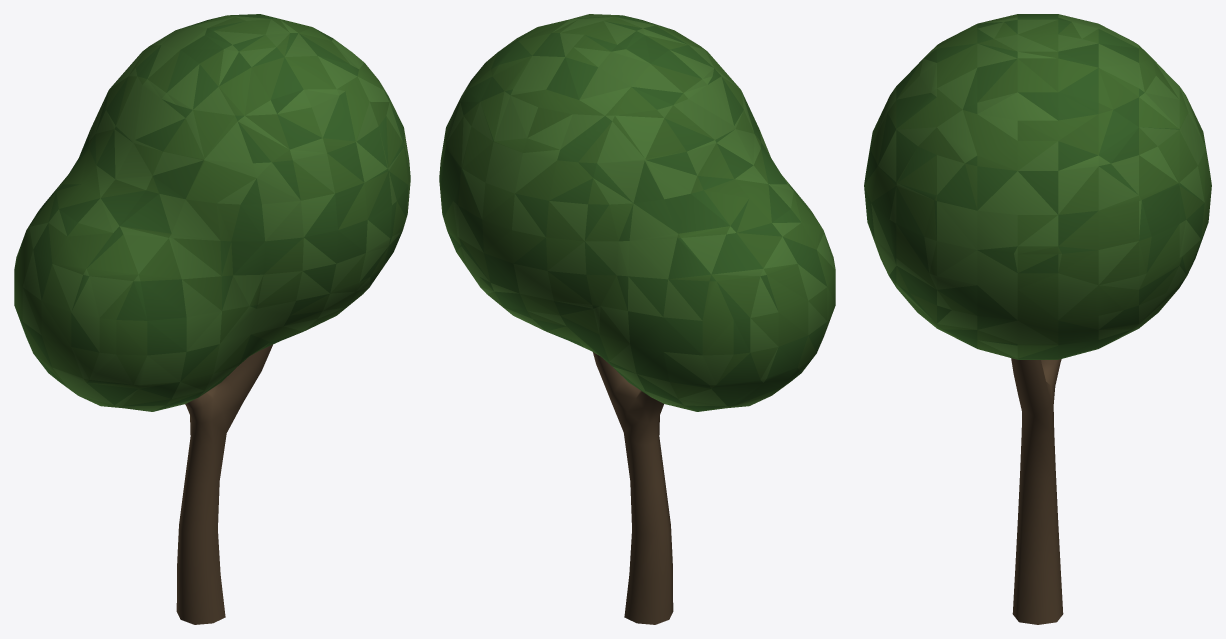
Rendered from pokok.fbx.
3 views of the same model, side by side, from view 1: azimuth 30°, elevation 25°; view 2: azimuth 150°, elevation 25°; view 3: azimuth 270°, elevation 25° (orthographic). The views are drawn at different scales.
Visible parts, largest first — view 1: pokok; view 2: pokok; view 3: pokok.
Boxes of the visible parts, <box> form: pokok: <box>14,14,410,624</box>; pokok: <box>439,14,835,624</box>; pokok: <box>864,14,1211,624</box>.
Bounding box in the file's own units: 5.86 × 9 × 4.67.
